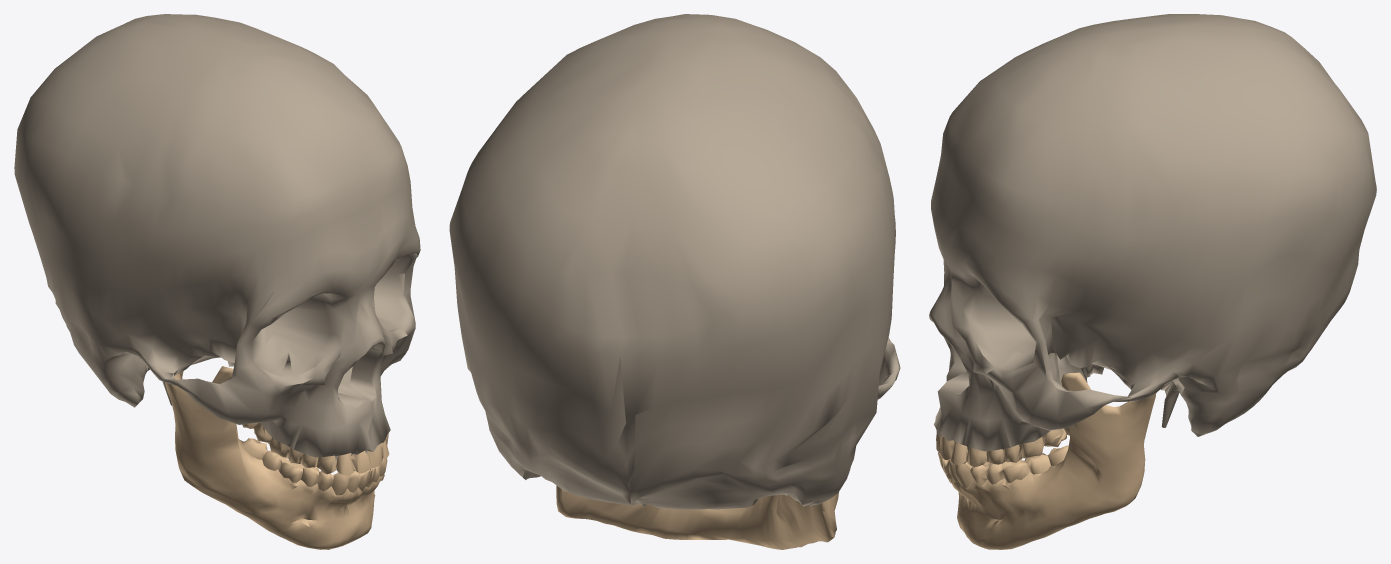
The model's file is skull.obj.
The picture shows the model from 3 angles, left to right: view 1: azimuth 30°, elevation 25°; view 2: azimuth 150°, elevation 25°; view 3: azimuth 270°, elevation 25°; orthographic projection. The views are drawn at different scales.
Size of the model in its own units: 52.27 by 73.19 by 61.36.
